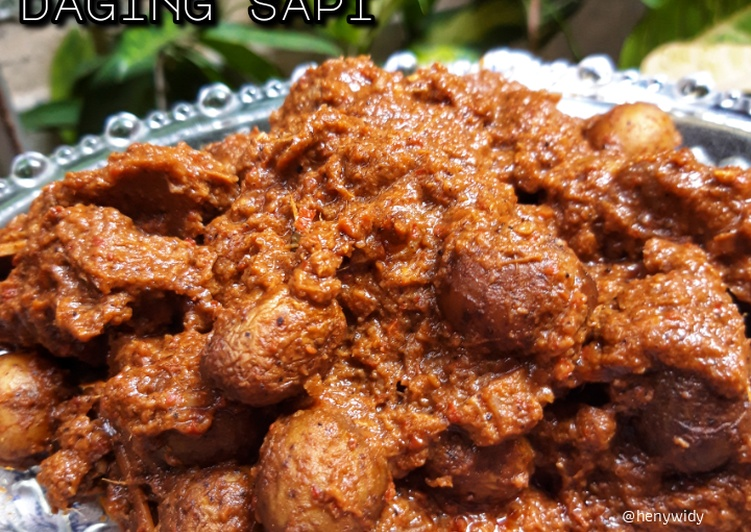rendang: (2, 82, 737, 504)
